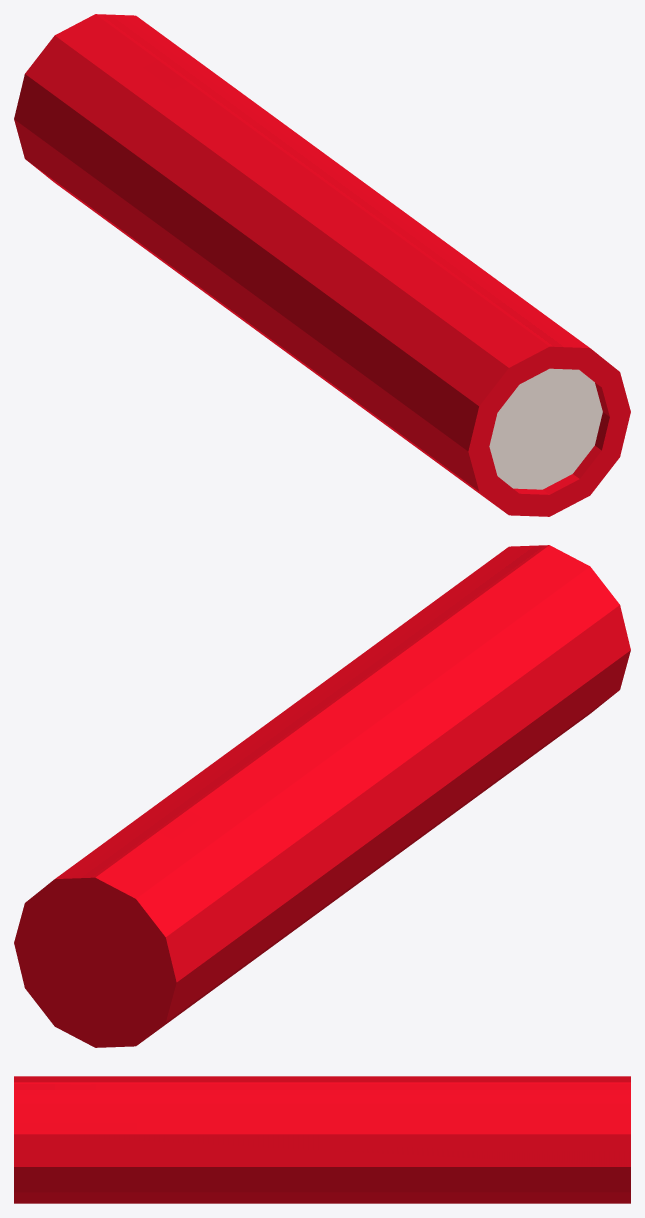
The model's file is dynamite.000.obj.
3 views of the same model, one above another, from view 1: azimuth 30°, elevation 25°; view 2: azimuth 150°, elevation 25°; view 3: azimuth 270°, elevation 25° (orthographic). The views are drawn at different scales.
Visible parts, largest first — view 1: Dynamite.001; view 2: Dynamite.001; view 3: Dynamite.001.
Part boxes in pixels (box(x1,y1,x2,y2)): Dynamite.001: box(14, 14, 630, 516); Dynamite.001: box(14, 545, 630, 1047); Dynamite.001: box(14, 1076, 630, 1203).
Bounding box in the file's own units: 0.00936 × 0.00936 × 0.0453.
1 material, 1 textured.
